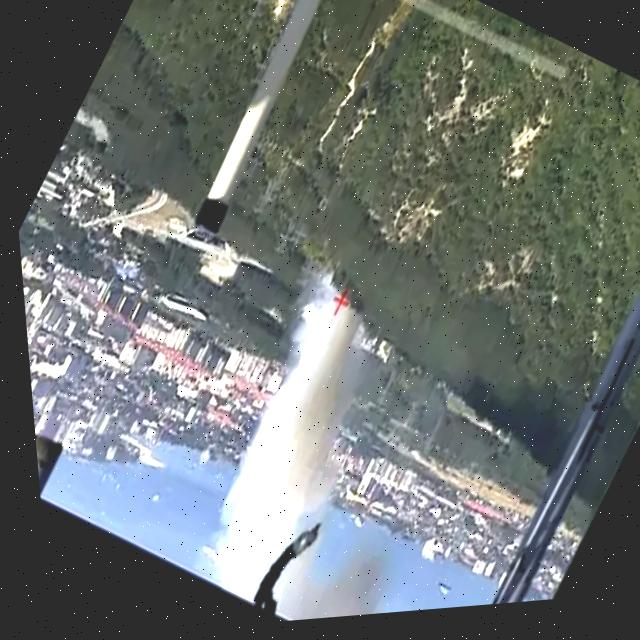Smoke: (145, 278, 507, 632)
